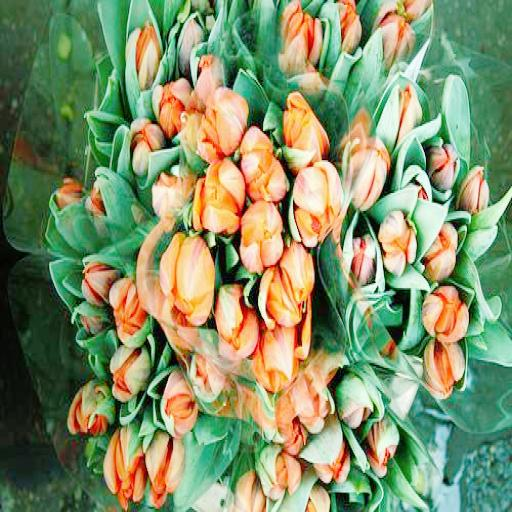tulip: (162, 234, 214, 324), (192, 157, 246, 237), (293, 162, 342, 247), (198, 80, 246, 154), (240, 201, 282, 268), (242, 201, 284, 265)
